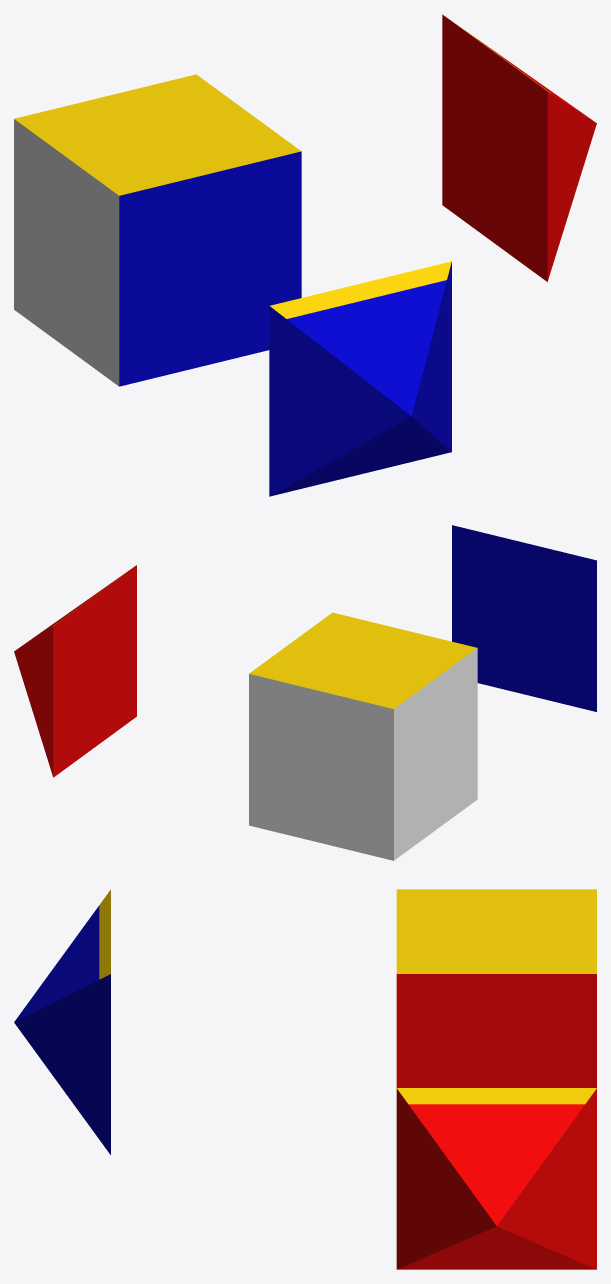
3 renders of one model, top to bottom at view 1: azimuth 30°, elevation 25°; view 2: azimuth 150°, elevation 25°; view 3: azimuth 270°, elevation 25°, orthographic. The views are drawn at different scales.
Parts seen in each view (by area): view 1: cube, blue, red; view 2: cube, blue, red; view 3: cube, red, blue.
Part boxes in pixels (<box>): cube: <box>14,74,301,386</box>; blue: <box>269,261,451,496</box>; red: <box>442,14,596,281</box>; cube: <box>249,612,477,860</box>; blue: <box>452,525,596,711</box>; red: <box>14,565,136,777</box>; cube: <box>396,889,596,1087</box>; red: <box>396,1088,596,1269</box>; blue: <box>14,889,110,1154</box>.
Size of the model in its own units: 1.25 by 0.4314 by 1.26.
